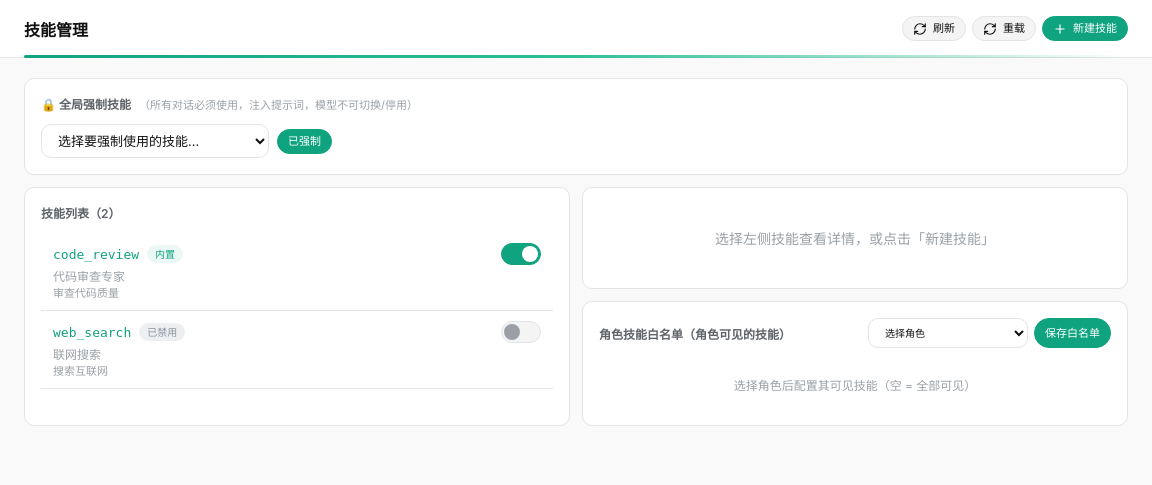
Test case: Skills.vue › 加载并渲染技能列表（含内置/禁用徽章）
# 选中技能后显示触发词
Click the element with class "skill-item" showing "code_review 内置 代码审查专家 审查代码质量". click: x=297, y=272
box: [41,233,553,311]
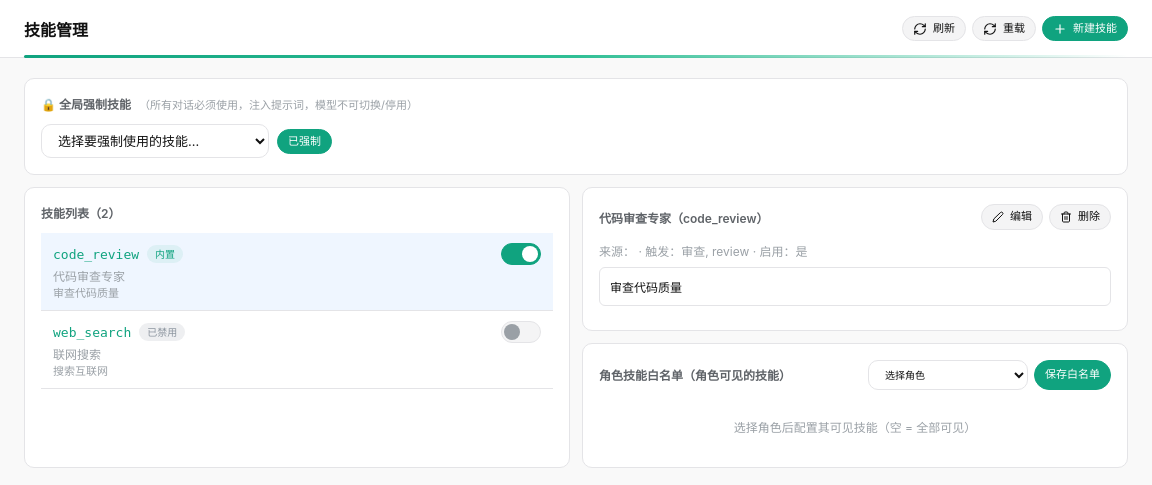
Expected: the text "审查, review" is shown, [599,244,808,259]
